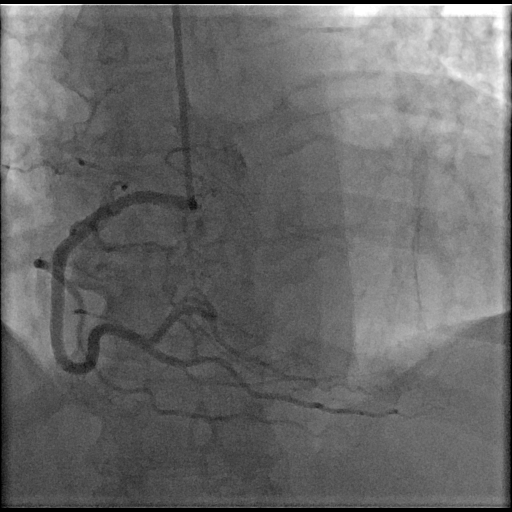RCA: (33, 190, 370, 421)
catherter: (170, 5, 199, 211)
